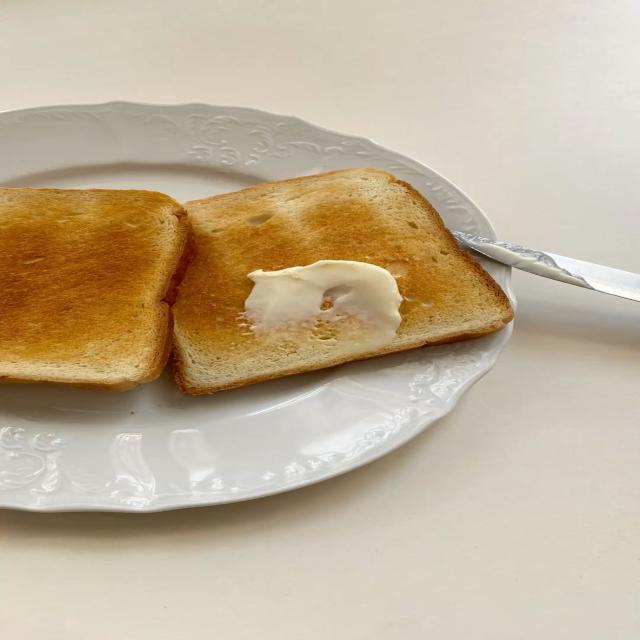toast bread: (174, 169, 513, 394), (0, 188, 187, 389)
